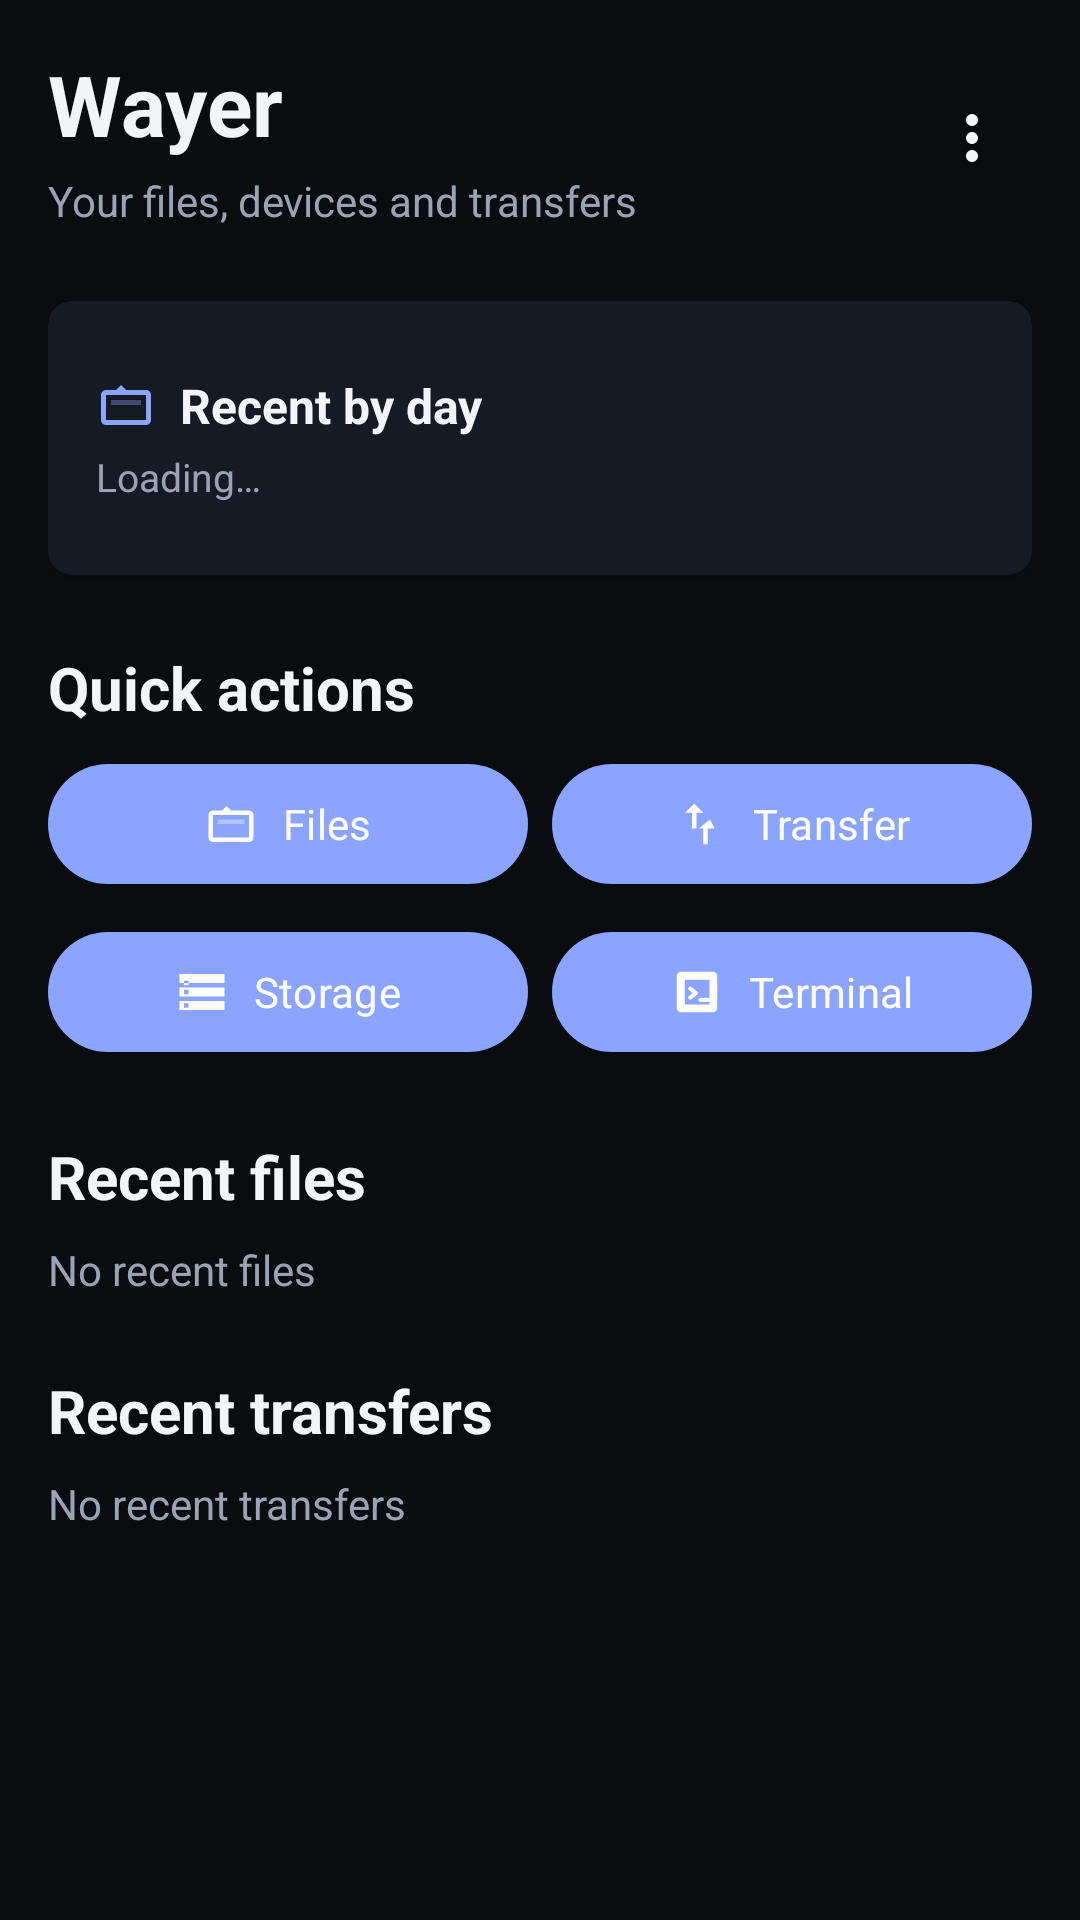

Screen size 1080×1920. Icon name, then its center in pixels as point (x, y):
Open options: point (972, 138)
